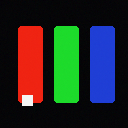1 square: (22, 95, 32, 105)
